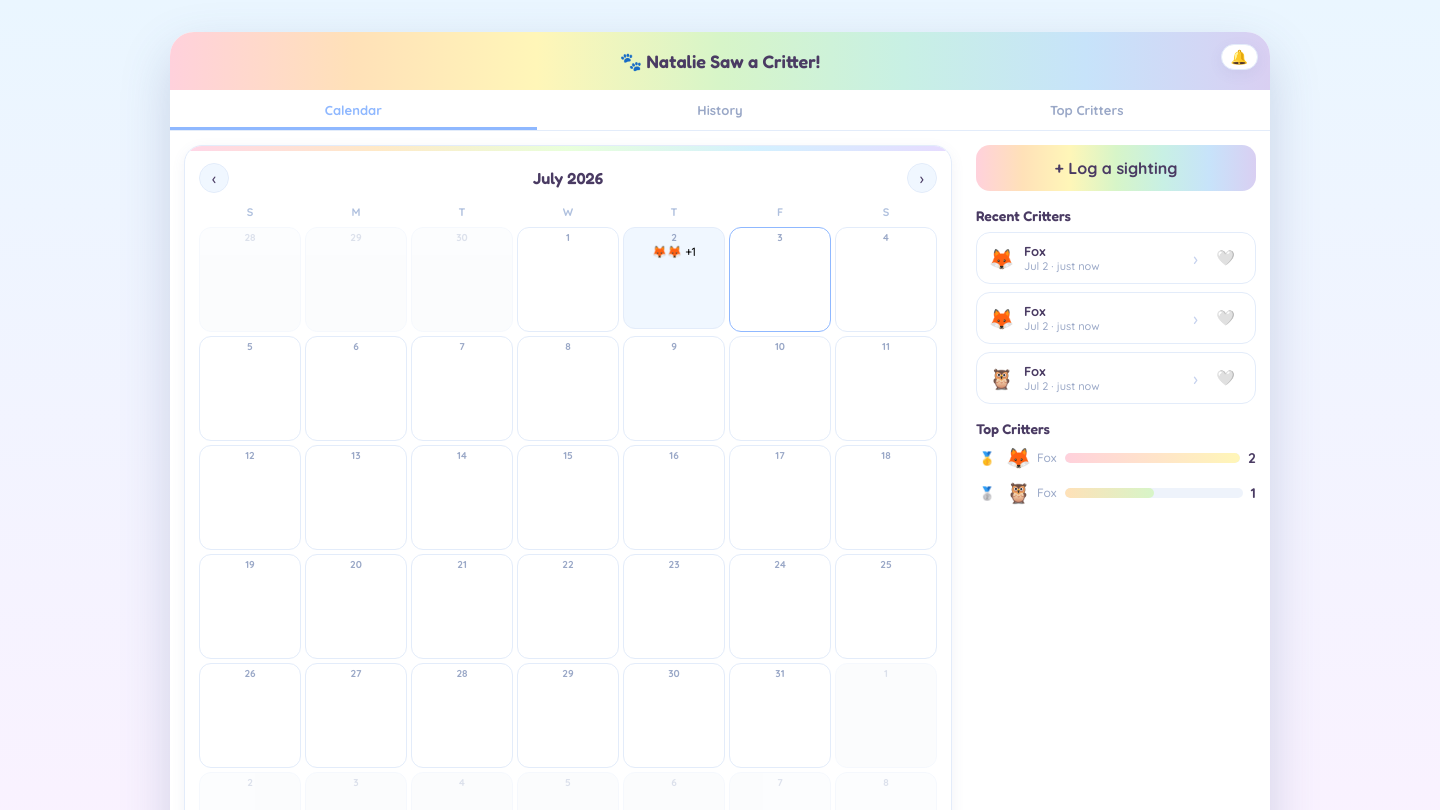
App shell › ranks sightings on the Top Critters tab
This screenshot has width=1440, height=810.
Click the tab "Top Critters" at (1087, 110), box x1=903 y1=90 x2=1270 y2=130
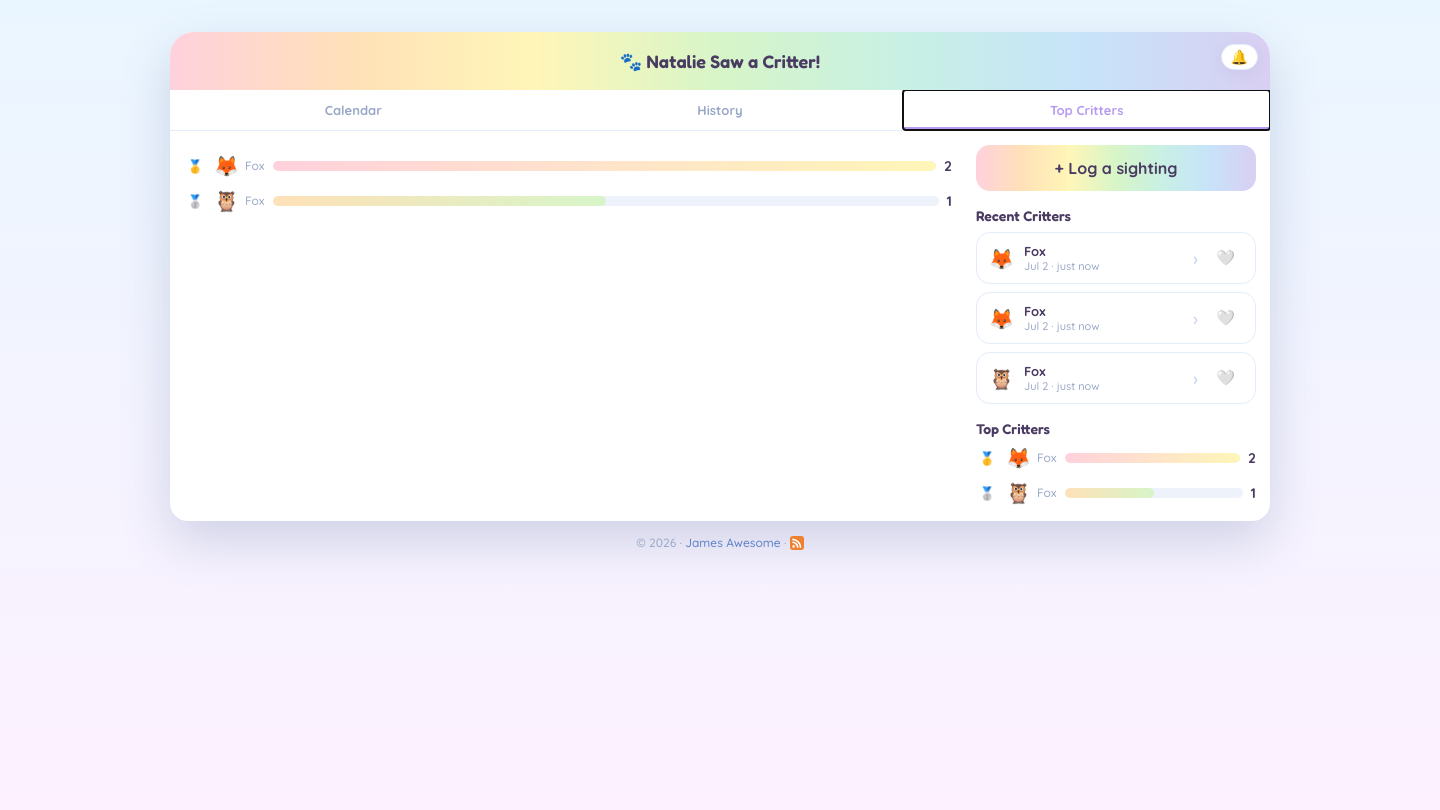
Expected: the 1st list item "🥇 🦊 Fox 2" is shown, x1=184 y1=153 x2=952 y2=178
